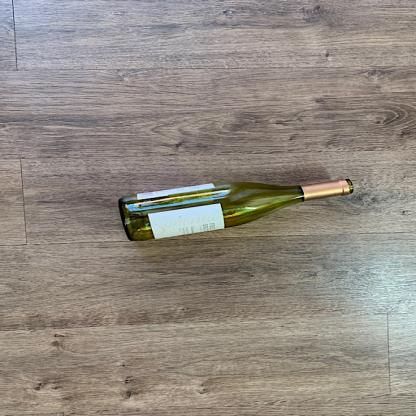trash: (116, 177, 354, 241)
